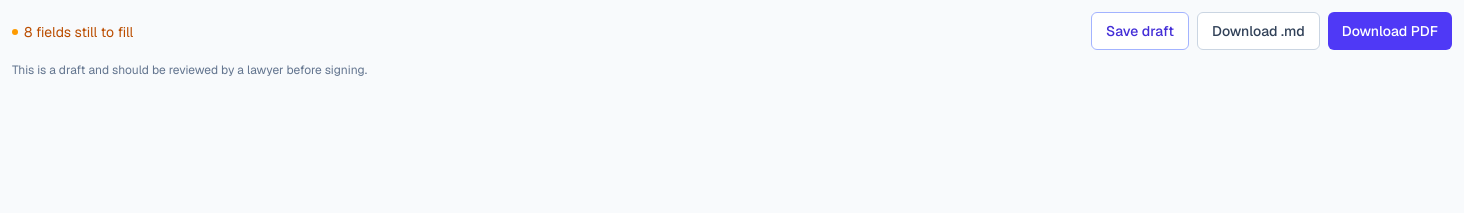
Test: DownloadBar - completeness › hides the list again
Click the button "8 fields still to fill". click: point(73, 32)
box: [12,22,133,42]
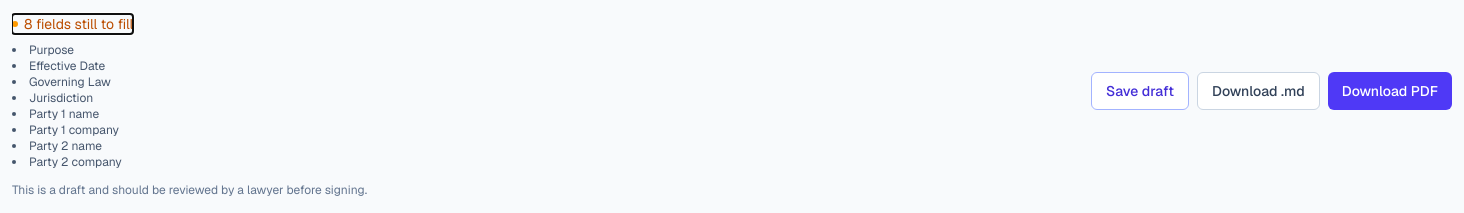
Click the button "8 fields still to fill". click: point(73, 24)
box: [12,14,133,34]
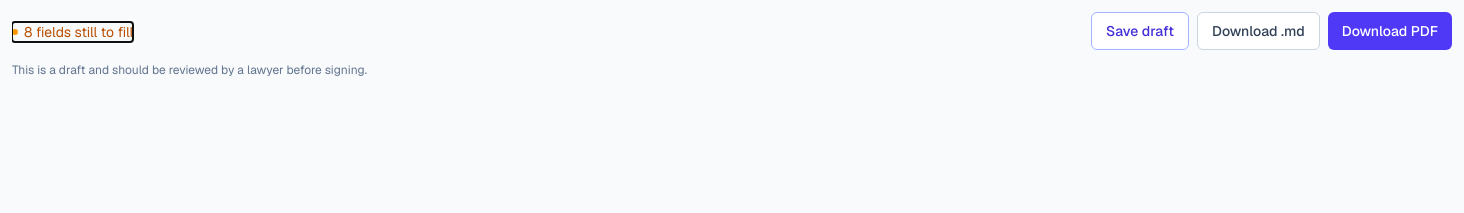
Result: the list item "Purpose" is gone
